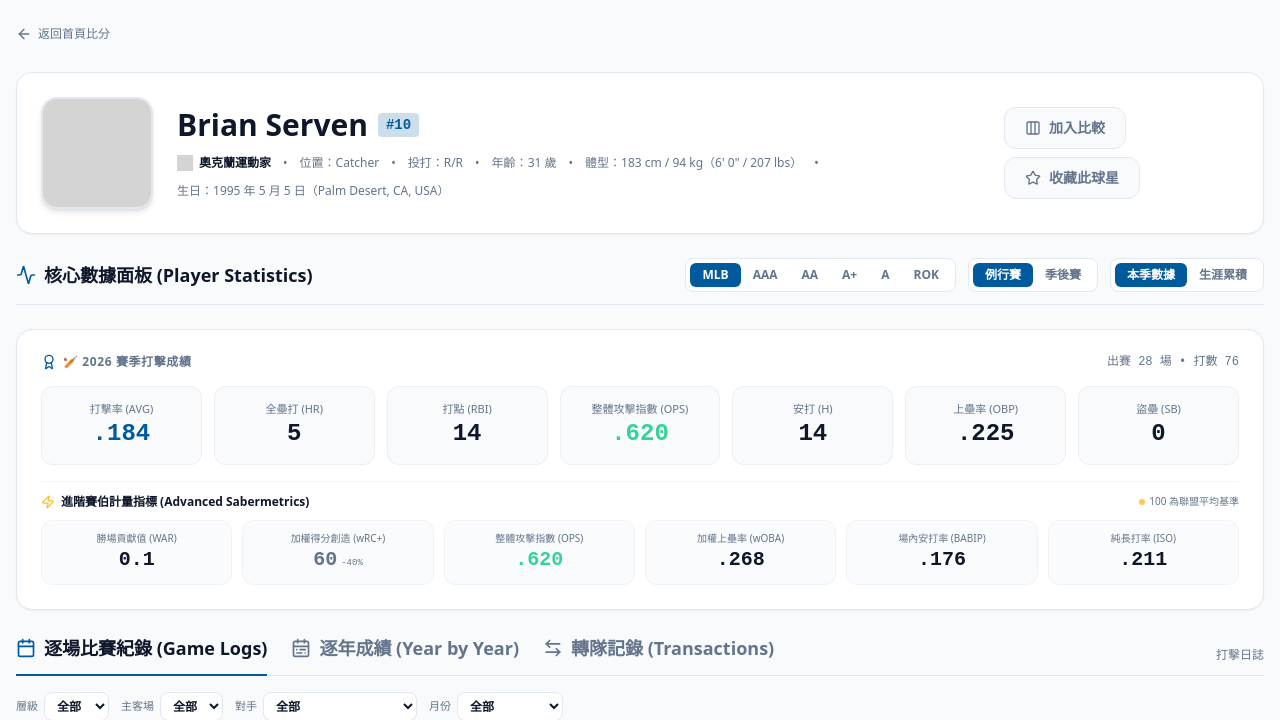
Test: PlayerDetailPage game logs › league-relative stats at a minor league level › hides wRC+ on a minor league hitting line
The width and height of the screenshot is (1280, 720).
Check: the text "出賽 28 場 • 打數 76" is shown, box top-left (1107, 354), bottom-right (1239, 370)
Check: the text "加權得分創造 (wRC+)" is shown, box top-left (291, 530), bottom-right (385, 544)
Click the button "AAA". click: [765, 275]
box: top-left (741, 263), bottom-right (789, 287)
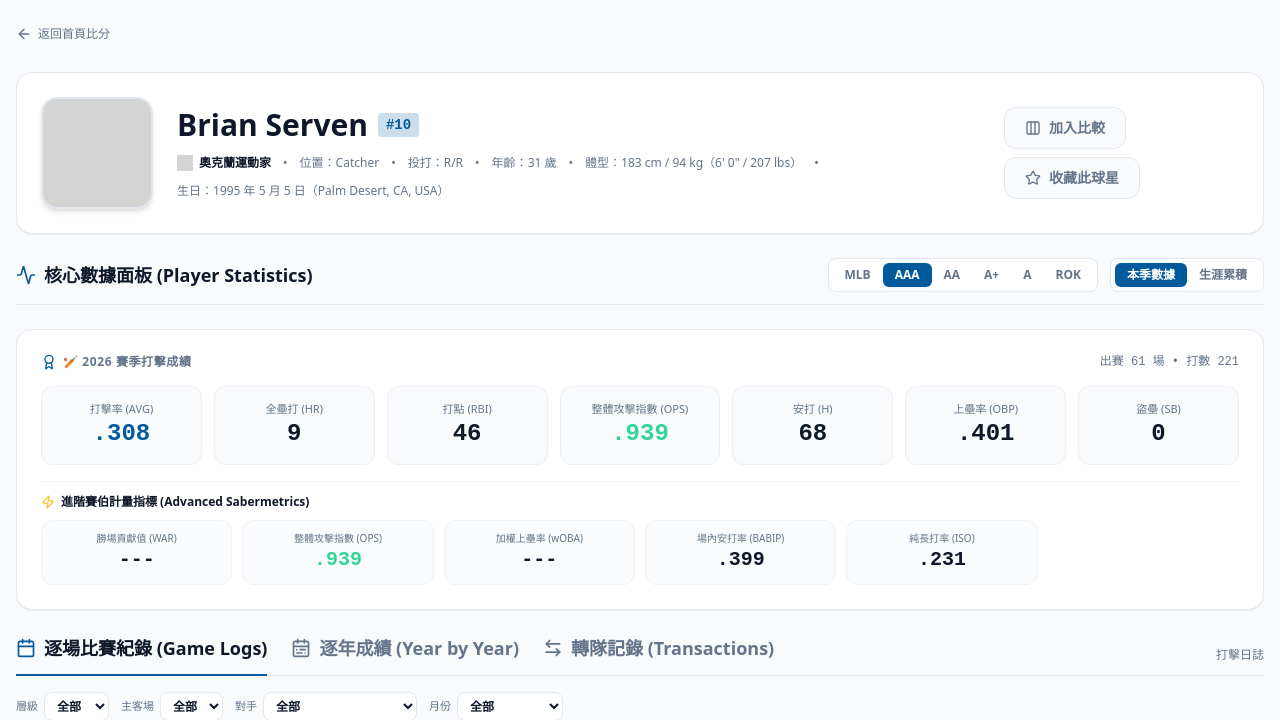
Check: the text "(wRC+)" is gone
